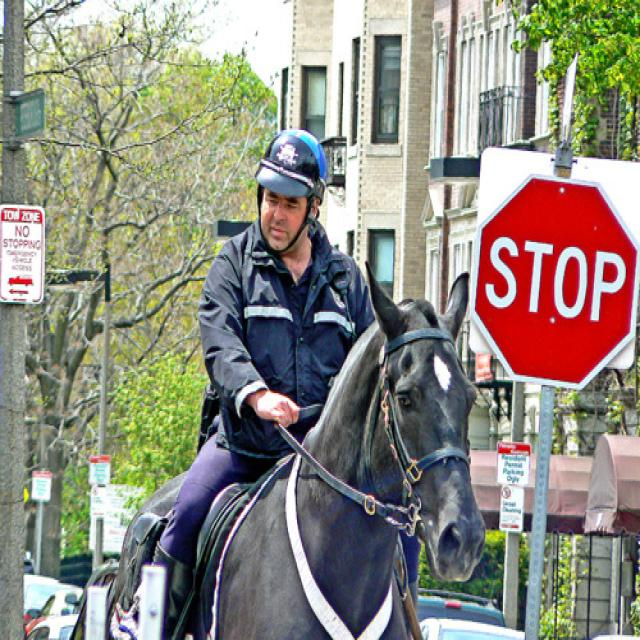Vehicle: (416, 588, 505, 623), (23, 569, 79, 616), (418, 619, 526, 640), (26, 614, 81, 640)
